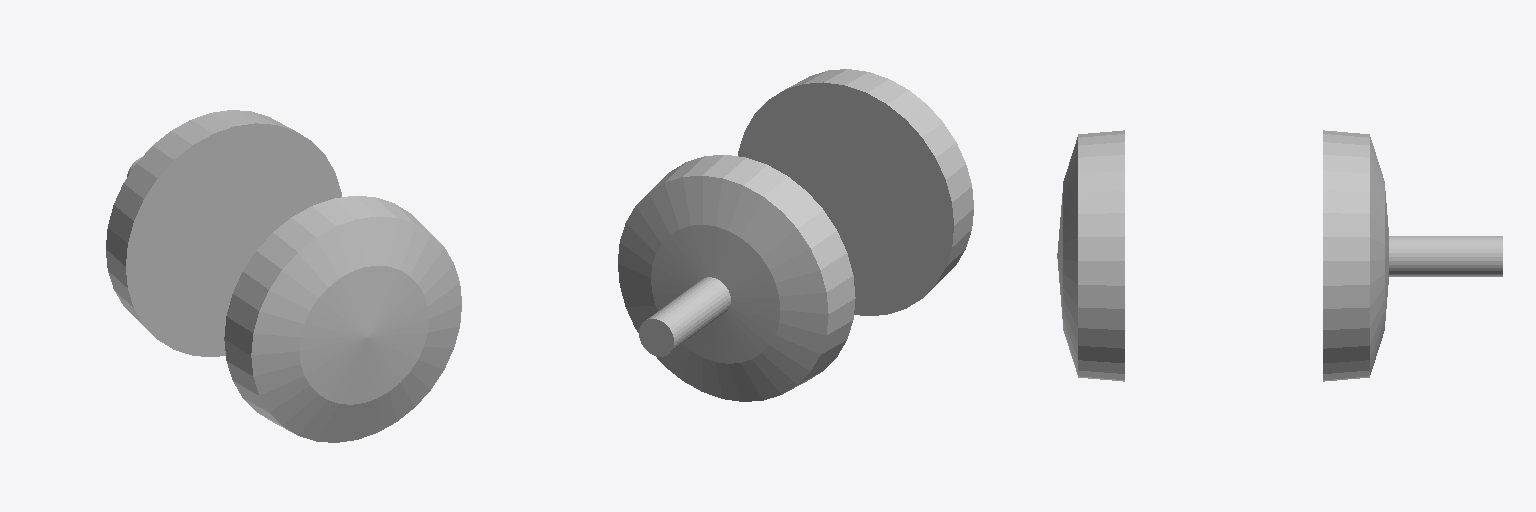
Rendered from itemcontainer.obj.
3 renders of one model, left to right at view 1: azimuth 30°, elevation 25°; view 2: azimuth 150°, elevation 25°; view 3: azimuth 270°, elevation 25°, orthographic.
Visible parts, largest first — view 1: Circle.001, Circle; view 2: Circle, Circle.001, Cylinder; view 3: Circle.001, Circle, Cylinder.
Part boxes in pixels (left/top/right/bottom): Circle.001: left=224, top=196, right=461, bottom=442; Circle: left=106, top=110, right=341, bottom=356; Circle: left=618, top=155, right=855, bottom=401; Circle.001: left=738, top=69, right=973, bottom=315; Cylinder: left=639, top=277, right=730, bottom=356; Circle.001: left=1057, top=130, right=1124, bottom=381; Circle: left=1323, top=130, right=1388, bottom=381; Cylinder: left=1389, top=236, right=1502, bottom=276.
Bounding box in the file's own units: 1.83 × 1.83 × 3.23.